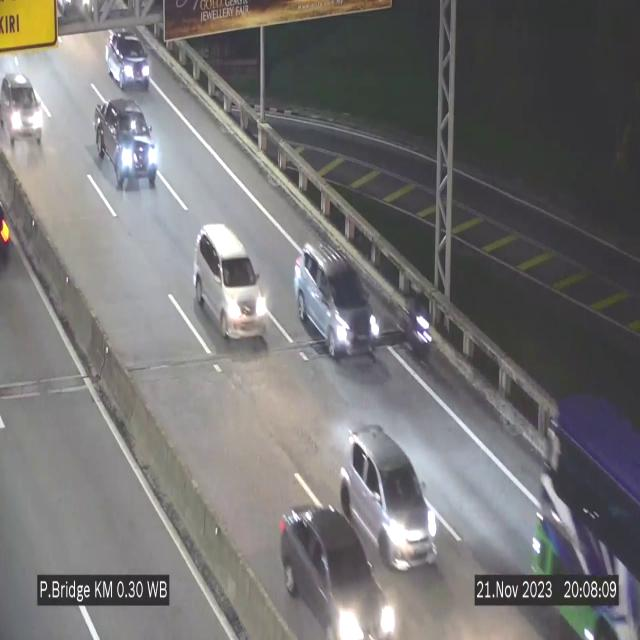Bus: (527, 382, 640, 640)
Car: (278, 503, 397, 640), (339, 422, 439, 570), (294, 246, 382, 358), (193, 224, 269, 341), (96, 101, 162, 199), (0, 58, 54, 154), (107, 31, 150, 90)
Motorcycle: (412, 295, 434, 368)
